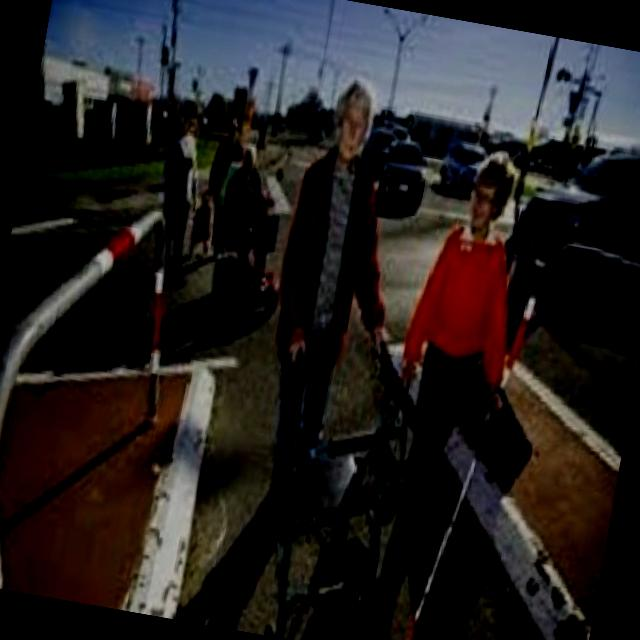Person: (238, 70, 420, 538), (362, 136, 542, 576), (140, 86, 222, 294)
